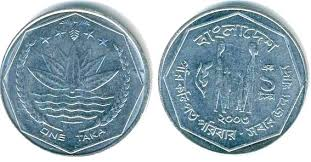1_takar_coin: (157, 5, 307, 156), (1, 6, 150, 157)
